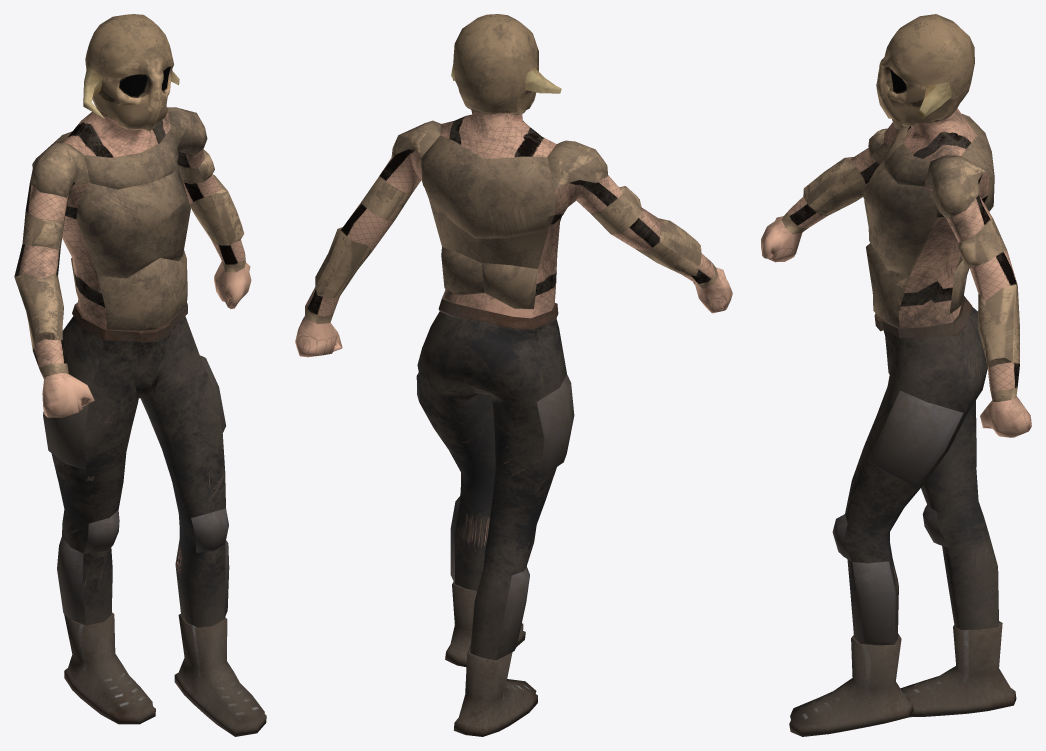
File: Anim_andar_npc1.0031.obj
3 renders of one model, left to right at view 1: azimuth 30°, elevation 25°; view 2: azimuth 150°, elevation 25°; view 3: azimuth 270°, elevation 25°, orthographic.
Parts seen in each view (by area): view 1: Anim_andar_npc1; view 2: Anim_andar_npc1; view 3: Anim_andar_npc1.
Boxes of the visible parts, box(x1,y1,x2,y2) form: Anim_andar_npc1: box(14, 14, 266, 736); Anim_andar_npc1: box(295, 14, 732, 736); Anim_andar_npc1: box(761, 14, 1031, 736).
Bounding box in the file's own units: 4.65 × 9.68 × 3.43.
